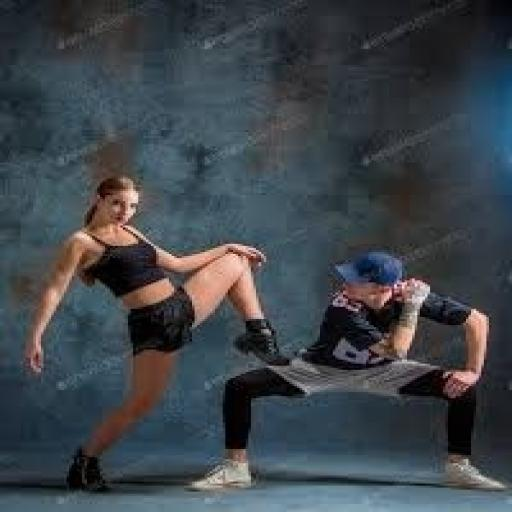dancing: (18, 172, 294, 496), (184, 248, 510, 496)
